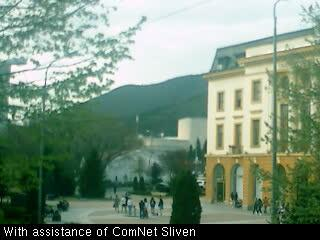person: (122, 192, 132, 214), (142, 197, 149, 217), (158, 198, 165, 217), (138, 200, 145, 218), (150, 197, 156, 216), (113, 194, 119, 213), (263, 197, 269, 215), (121, 195, 127, 212), (257, 198, 263, 214), (230, 190, 236, 204), (253, 199, 258, 213), (234, 192, 239, 206), (127, 204, 132, 215), (133, 206, 137, 216), (113, 186, 117, 194)
